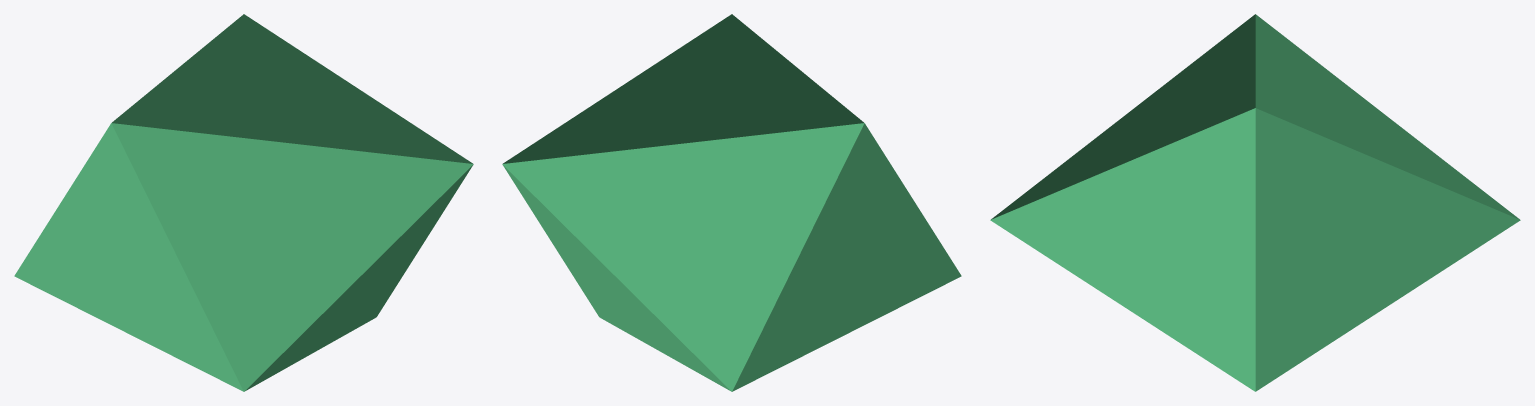
The model's file is hedgehog-marker.glb.
The picture shows the model from 3 angles, left to right: view 1: azimuth 30°, elevation 25°; view 2: azimuth 150°, elevation 25°; view 3: azimuth 270°, elevation 25°; orthographic projection.
Size of the model in its own units: 0.7 by 0.55 by 0.7.
